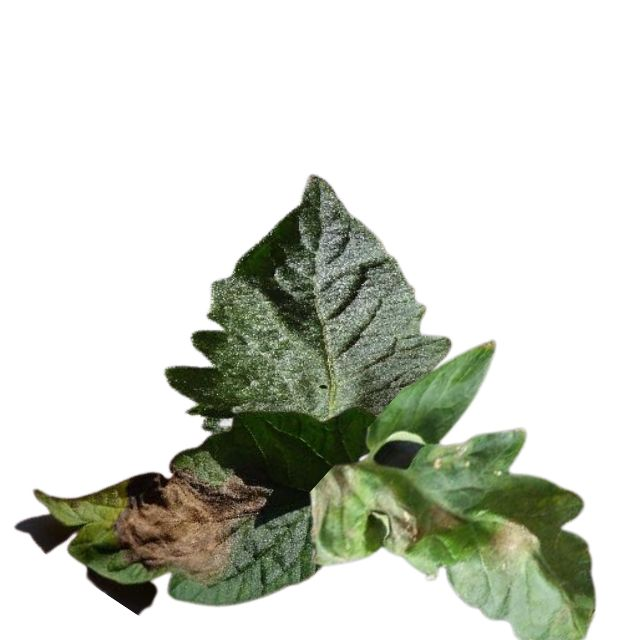Late_blight: (108, 463, 268, 582), (304, 461, 358, 548), (369, 482, 422, 550), (484, 513, 540, 567), (427, 439, 475, 472), (428, 501, 460, 532)
